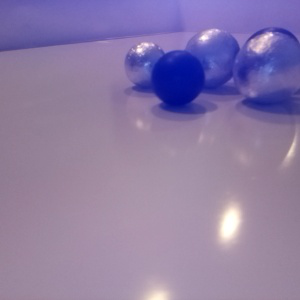alive_ball: (233, 32, 300, 104), (184, 27, 241, 88), (124, 42, 167, 87)
dead_ball: (243, 25, 300, 93), (150, 49, 205, 107)
